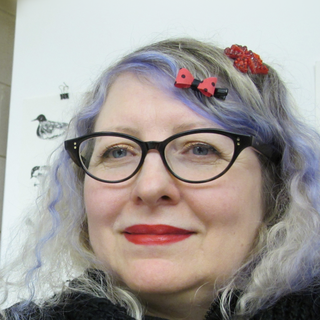eye: (169, 136, 229, 168), (90, 141, 144, 166)
